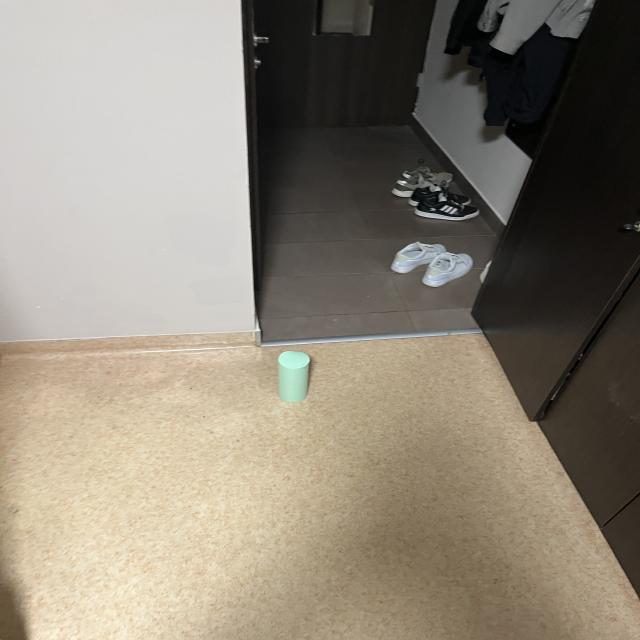meta: (278, 351, 310, 402)
